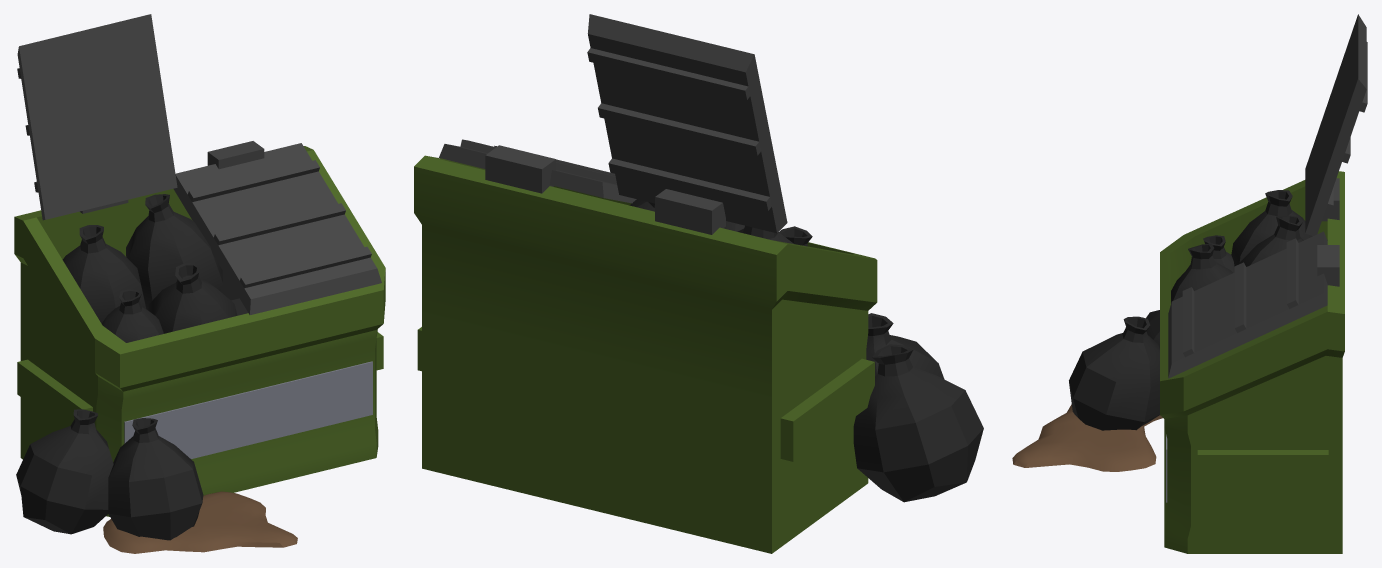
The model's file is trash_container_open.glb.
3 renders of one model, left to right at view 1: azimuth 30°, elevation 25°; view 2: azimuth 150°, elevation 25°; view 3: azimuth 270°, elevation 25°, orthographic. The views are drawn at different scales.
Parts seen in each view (by area): view 1: TrashContainer_Open; view 2: TrashContainer_Open; view 3: TrashContainer_Open.
Part boxes in pixels (bbox=[...]): TrashContainer_Open: bbox=[14, 14, 385, 553]; TrashContainer_Open: bbox=[414, 14, 983, 553]; TrashContainer_Open: bbox=[1012, 14, 1367, 553].
Bounding box in the file's own units: 3.16 × 3.34 × 2.63.
